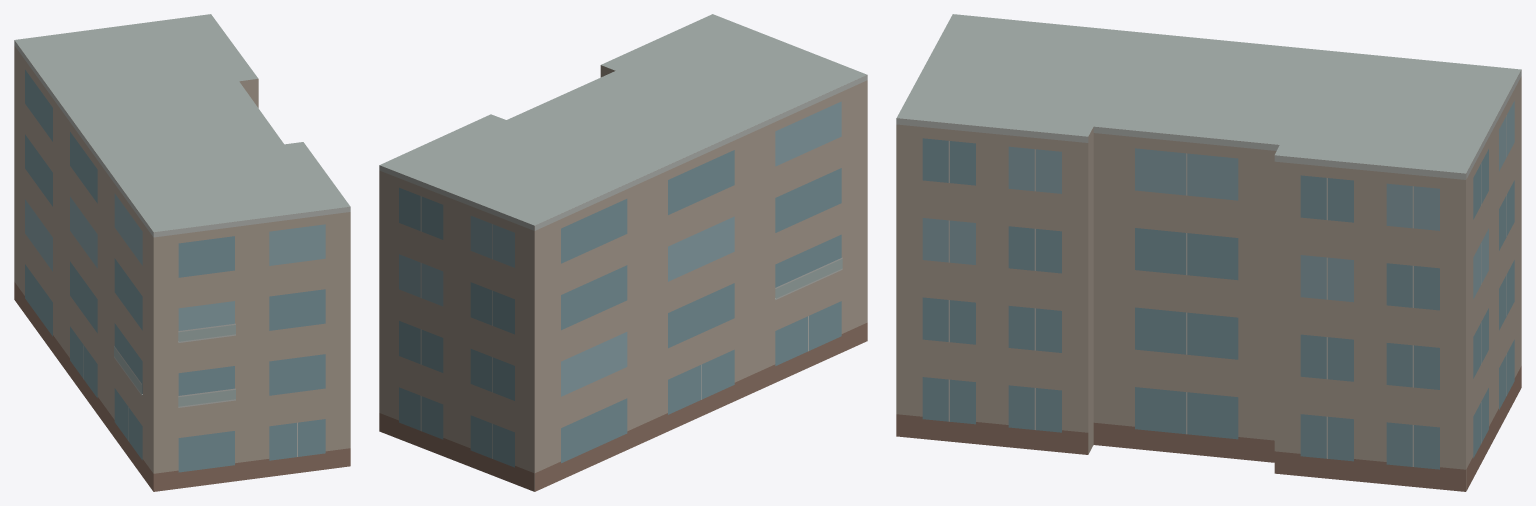
Rendered from survey-upis-32538284.glb.
The picture shows the model from 3 angles, left to right: view 1: azimuth 30°, elevation 25°; view 2: azimuth 150°, elevation 25°; view 3: azimuth 270°, elevation 25°; orthographic projection. The views are drawn at different scales.
Visible parts, largest first — view 1: survey-upis-32538284.tmp; view 2: survey-upis-32538284.tmp; view 3: survey-upis-32538284.tmp.
Boxes of the visible parts, x1,y1,x2,y2 form: survey-upis-32538284.tmp: [14, 14, 350, 491]; survey-upis-32538284.tmp: [379, 14, 867, 491]; survey-upis-32538284.tmp: [896, 14, 1521, 491].
Bounding box in the file's own units: 13.11 × 12.18 × 21.69.
